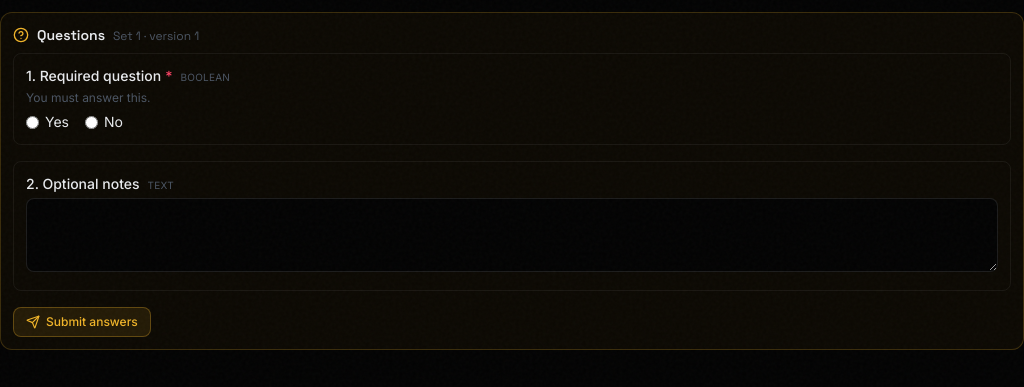
it: MissionQuestionCard — accessibility › server ANSWER_VALIDATION_FAILED errors display as field-level role=alert
Click the radio button labelled "Yes" at (32, 122), box [26,116,39,128]
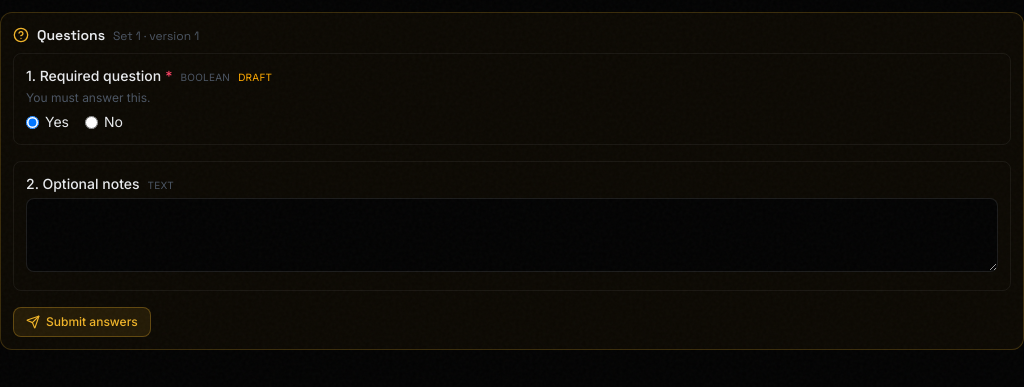
Click the button "Submit answers" at (82, 322), box [13,307,151,337]
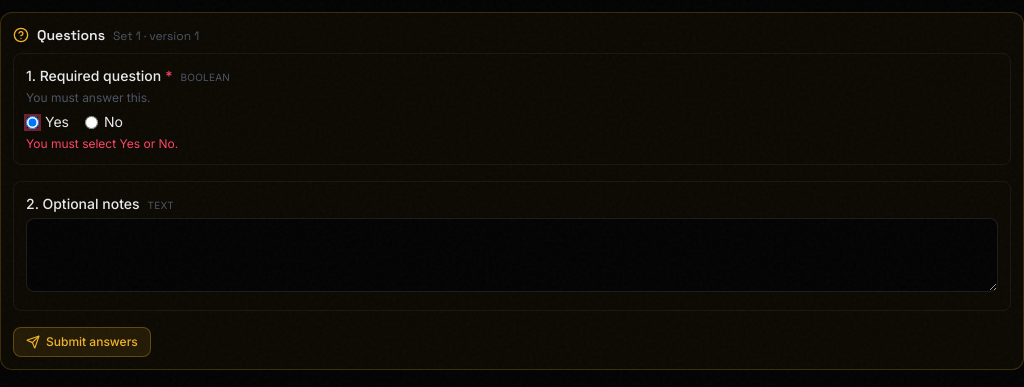
Now the text "You must select Yes or No." is shown, box [26,136,178,151]
